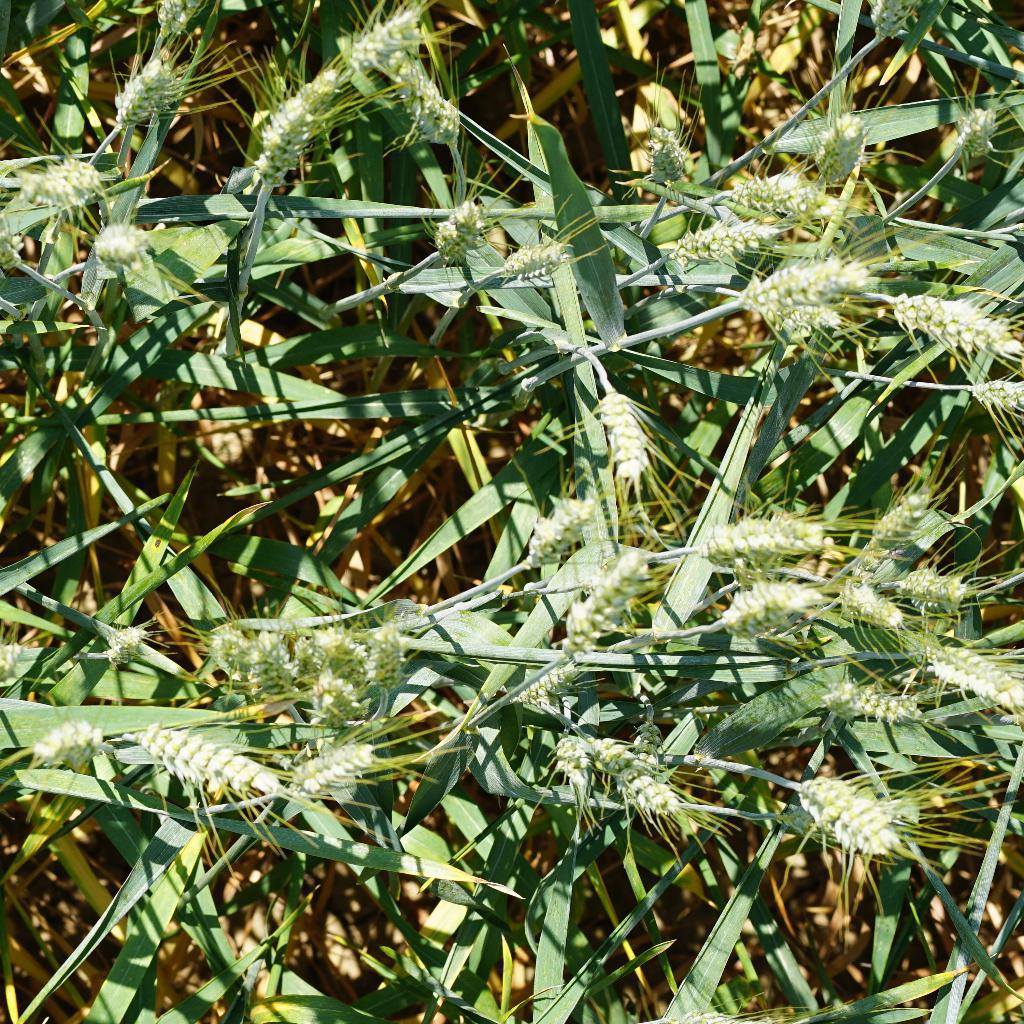0-0: (137, 722, 283, 806), (585, 729, 701, 826), (890, 280, 1019, 366), (903, 628, 1024, 718), (793, 768, 911, 859), (559, 549, 665, 645), (722, 250, 886, 310), (234, 77, 333, 174), (714, 563, 826, 642), (388, 56, 473, 159), (697, 496, 826, 563), (737, 159, 851, 232), (271, 735, 389, 803), (508, 479, 591, 574), (860, 462, 945, 550), (283, 660, 385, 732), (587, 392, 658, 492), (98, 45, 176, 135), (806, 108, 878, 197), (817, 671, 927, 729), (332, 0, 430, 64), (669, 208, 777, 264), (11, 148, 108, 205), (660, 983, 793, 1024), (25, 707, 104, 774), (888, 552, 979, 609), (746, 288, 840, 343), (864, 0, 948, 59), (938, 100, 1004, 174), (302, 615, 372, 683), (429, 185, 492, 260), (202, 610, 260, 687), (942, 366, 1024, 420), (830, 578, 907, 634), (240, 616, 294, 694), (362, 613, 415, 692), (492, 243, 580, 290), (90, 606, 150, 672), (638, 112, 688, 191), (518, 641, 575, 710), (83, 216, 156, 268), (546, 727, 593, 799), (135, 0, 217, 41), (0, 209, 30, 275), (0, 631, 29, 687), (0, 269, 10, 317)
